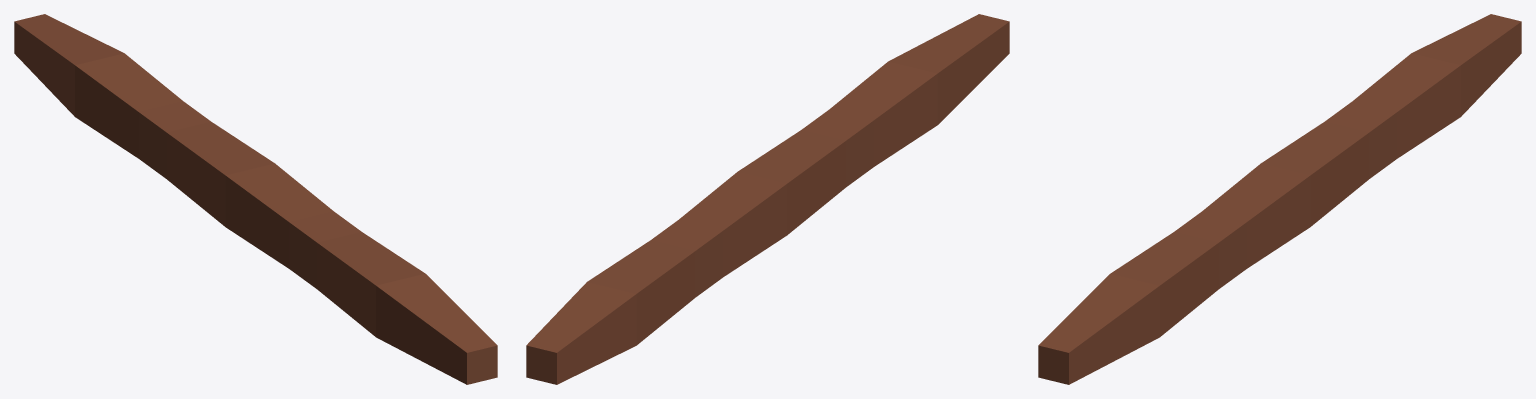
The model's file is Pillar.fbx.
3 renders of one model, left to right at view 1: azimuth 30°, elevation 25°; view 2: azimuth 150°, elevation 25°; view 3: azimuth 330°, elevation 25°, orthographic.
Parts seen in each view (by area): view 1: Pillar Long; view 2: Pillar Long; view 3: Pillar Long.
Part boxes in pixels (x1,y1,x2,y2): Pillar Long: (14,14,497,384); Pillar Long: (526,14,1009,384); Pillar Long: (1038,14,1521,384).
Size of the model in its own units: 227 by 227 by 3600.
